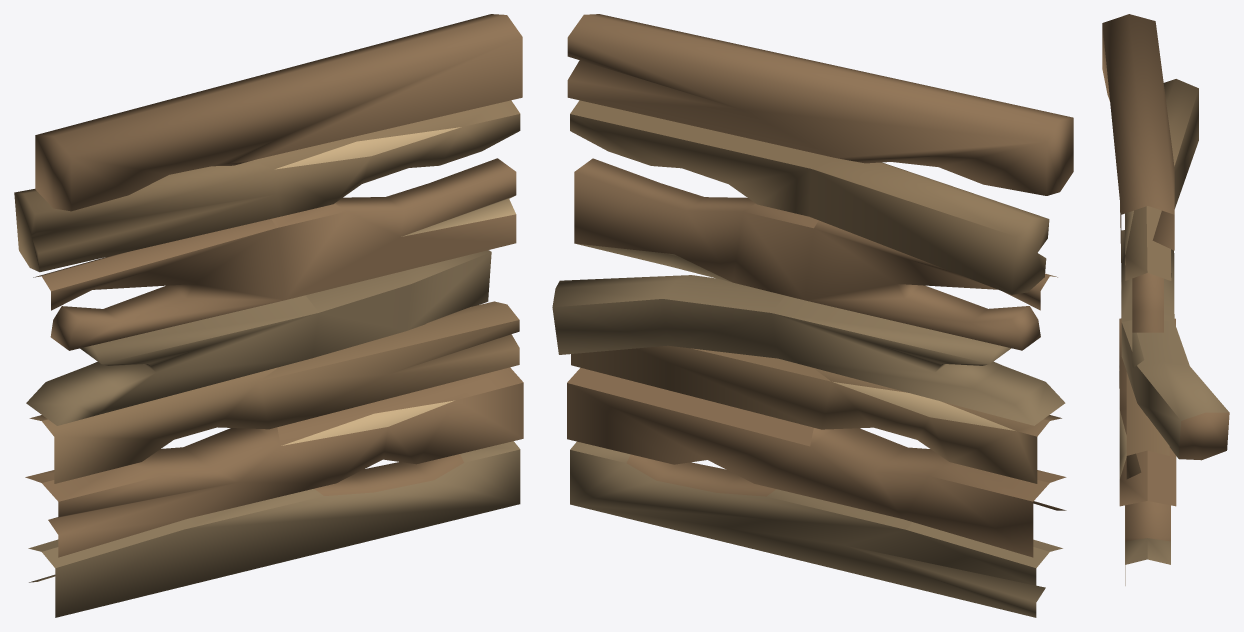
The model's file is rpgpp_av_wall_01_3x3_c.gltf.
3 views of the same model, side by side, from view 1: azimuth 30°, elevation 25°; view 2: azimuth 150°, elevation 25°; view 3: azimuth 270°, elevation 25° (orthographic). The views are drawn at different scales.
Parts seen in each view (by area): view 1: rpgpp_av_wall_01_3x3_c; view 2: rpgpp_av_wall_01_3x3_c; view 3: rpgpp_av_wall_01_3x3_c.
Boxes of the visible parts, x1,y1,x2,y2 form: rpgpp_av_wall_01_3x3_c: (14,14,523,617); rpgpp_av_wall_01_3x3_c: (552,14,1073,617); rpgpp_av_wall_01_3x3_c: (1102,14,1229,585).
Size of the model in its own units: 0.0305 by 0.03 by 0.0084.
1 material, 1 textured.
